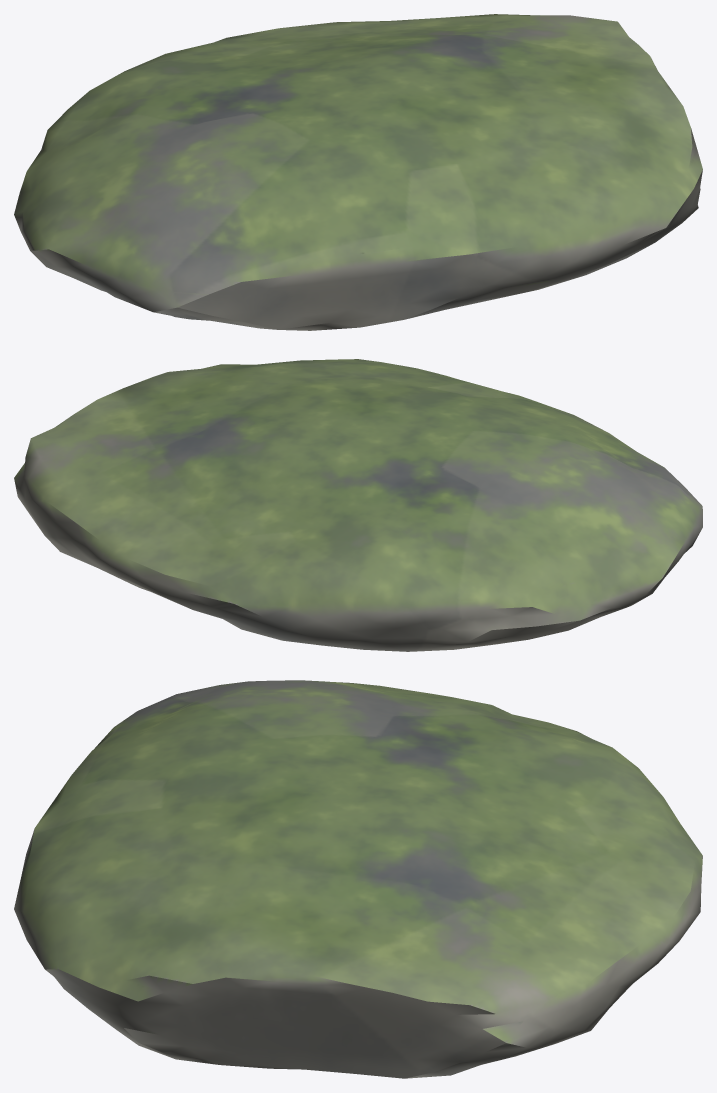
File: rock_flat.glb
3 renders of one model, top to bottom at view 1: azimuth 30°, elevation 25°; view 2: azimuth 150°, elevation 25°; view 3: azimuth 270°, elevation 25°, orthographic. The views are drawn at different scales.
Visible parts, largest first — view 1: rock_flat; view 2: rock_flat; view 3: rock_flat.
Part boxes in pixels (x1,y1,x2,y2): rock_flat: (14,14,702,330); rock_flat: (14,359,702,651); rock_flat: (14,680,702,1078).
Bounding box in the file's own units: 1.04 × 0.1963 × 0.8533.
Materials: 1 (1 with a texture image).
